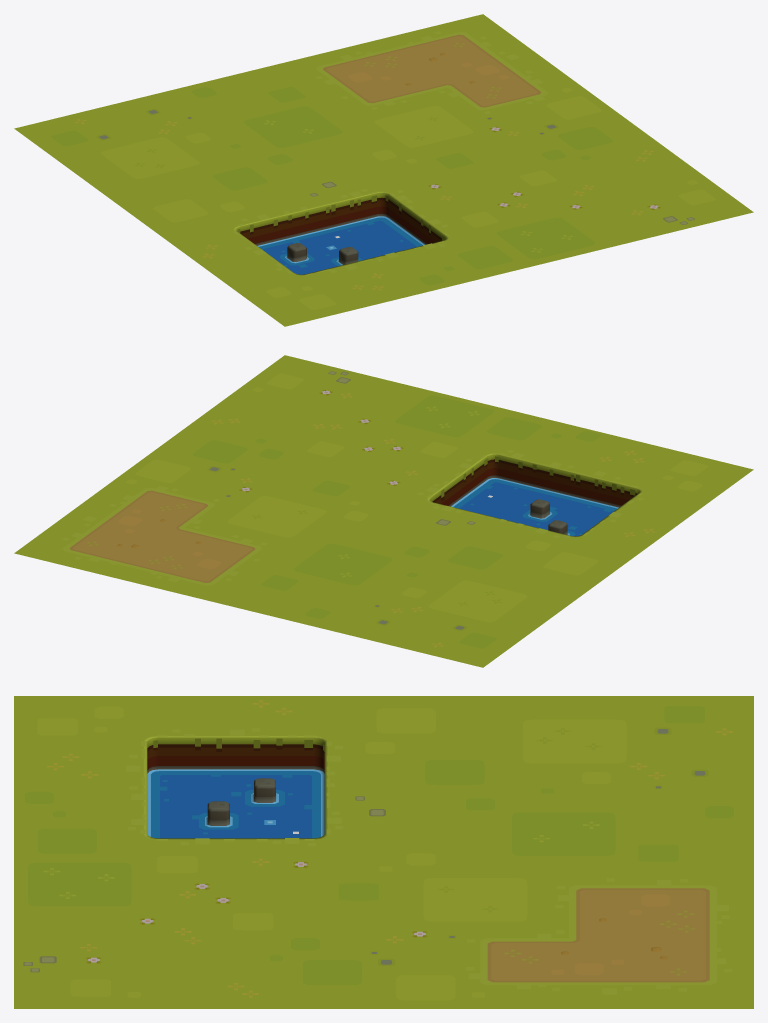
The model's file is C_grass2_02.fbx.
3 renders of one model, top to bottom at view 1: azimuth 30°, elevation 25°; view 2: azimuth 150°, elevation 25°; view 3: azimuth 270°, elevation 25°, orthographic. The views are drawn at different scales.
Parts seen in each view (by area): view 1: model; view 2: model; view 3: model.
Part boxes in pixels (<box>): model: <box>14,14,753,326</box>; model: <box>14,355,753,667</box>; model: <box>14,696,753,1008</box>.
Size of the model in its own units: 50 by 3.63 by 50.
